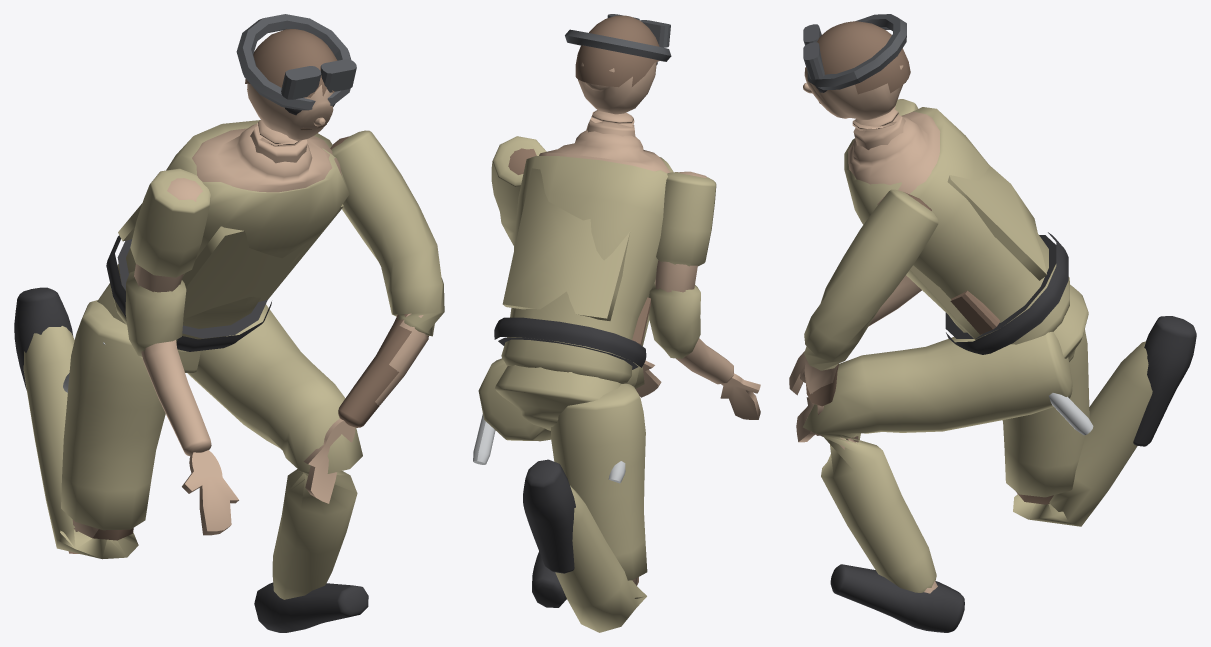
Rendered from tactical-shooter-hill-town-field-engineer-planting-5a5d1cd1__27590.glb.
3 renders of one model, left to right at view 1: azimuth 30°, elevation 25°; view 2: azimuth 150°, elevation 25°; view 3: azimuth 270°, elevation 25°, orthographic. The views are drawn at different scales.
Parts seen in each view (by area): view 1: field-engineer-planting; view 2: field-engineer-planting; view 3: field-engineer-planting.
Part boxes in pixels (x1,y1,x2,y2): field-engineer-planting: (14,14,444,632); field-engineer-planting: (473,14,760,632); field-engineer-planting: (789,14,1196,632).
Size of the model in its own units: 0.59 by 1.32 by 0.8226.
